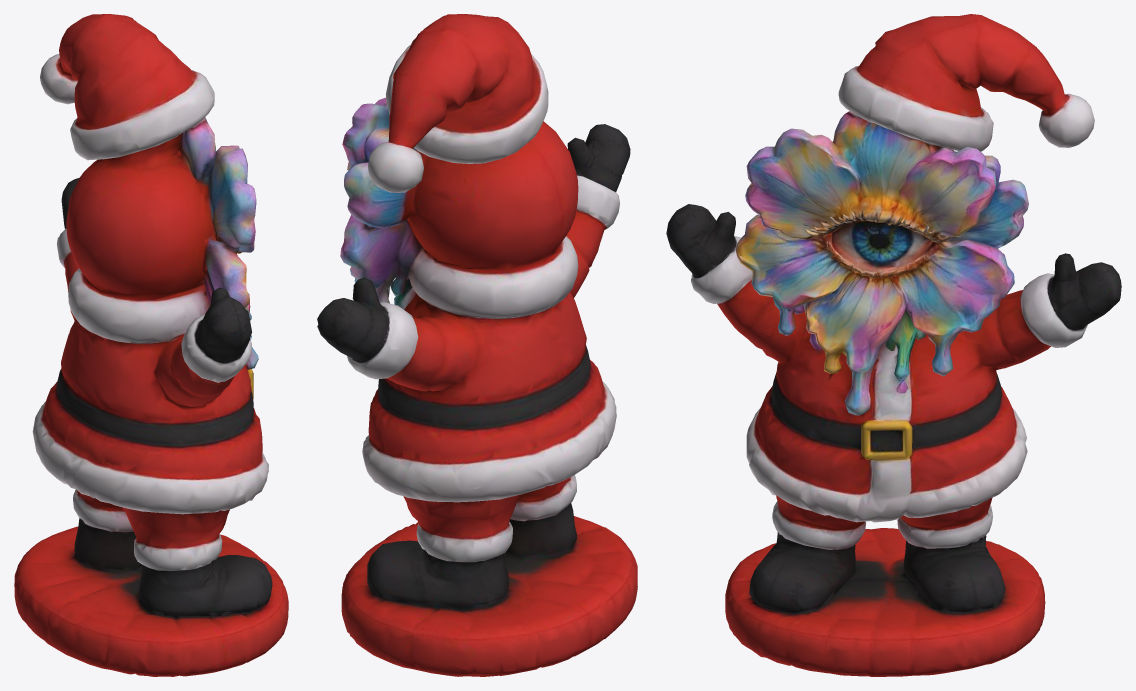
Rendered from lt_santa.glb.
3 renders of one model, left to right at view 1: azimuth 30°, elevation 25°; view 2: azimuth 150°, elevation 25°; view 3: azimuth 270°, elevation 25°, orthographic. The views are drawn at different scales.
Visible parts, largest first — view 1: tripo_node_1b38c4e6-aa64-4d0f-aba7-e82e82a57e94; view 2: tripo_node_1b38c4e6-aa64-4d0f-aba7-e82e82a57e94; view 3: tripo_node_1b38c4e6-aa64-4d0f-aba7-e82e82a57e94.
Part boxes in pixels (<box>): tripo_node_1b38c4e6-aa64-4d0f-aba7-e82e82a57e94: <box>14,14,288,676</box>; tripo_node_1b38c4e6-aa64-4d0f-aba7-e82e82a57e94: <box>317,14,637,676</box>; tripo_node_1b38c4e6-aa64-4d0f-aba7-e82e82a57e94: <box>666,14,1121,676</box>.
Size of the model in its own units: 0.4043 by 1 by 0.6785.
Materials: 1 (1 with a texture image).
